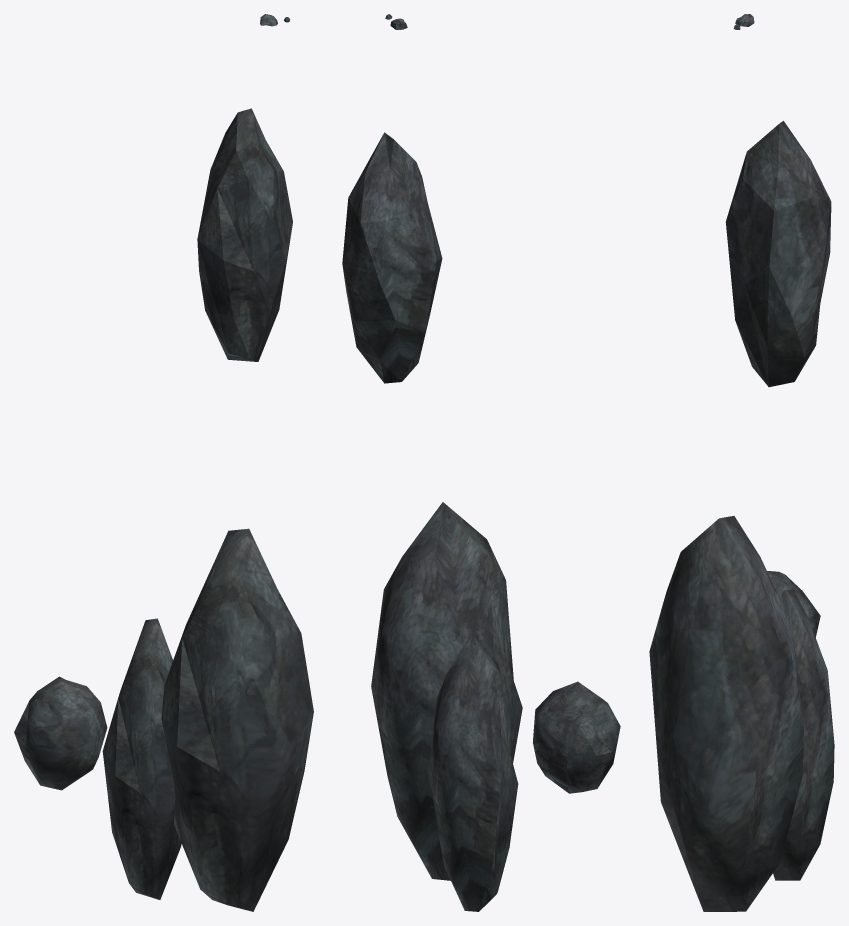
Rendered from object_rubble41.fbx.
3 views of the same model, side by side, from view 1: azimuth 30°, elevation 25°; view 2: azimuth 150°, elevation 25°; view 3: azimuth 270°, elevation 25° (orthographic). The views are drawn at different scales.
Parts seen in each view (by area): view 1: object_rubble41-0; view 2: object_rubble41-0; view 3: object_rubble41-0.
Part boxes in pixels (box(x1,y1,x2,y2)): object_rubble41-0: box(14, 14, 313, 911); object_rubble41-0: box(342, 14, 620, 911); object_rubble41-0: box(649, 14, 834, 911).
Size of the model in its own units: 17.61 by 55.13 by 10.11.
